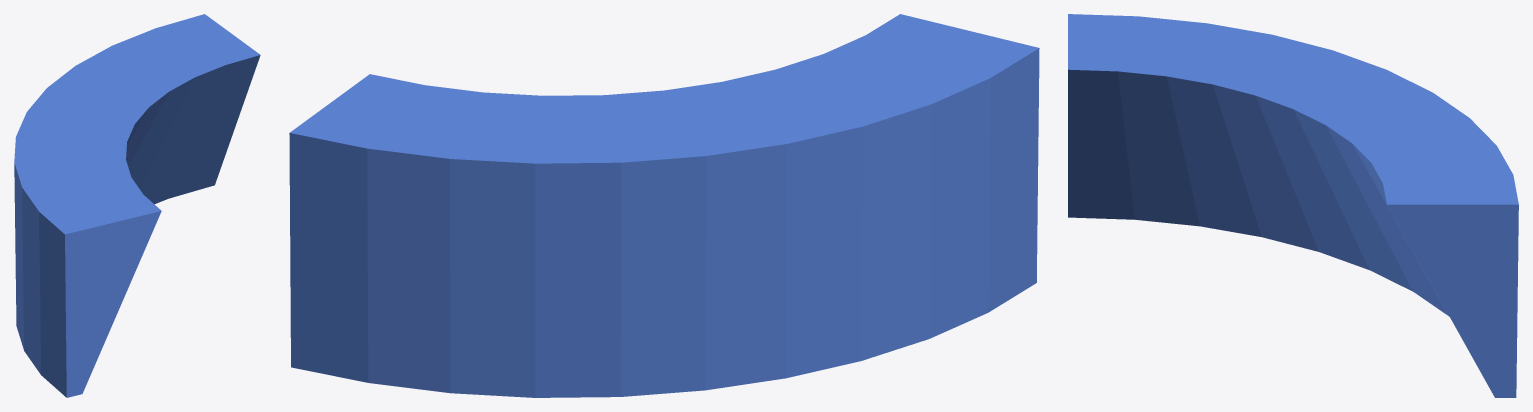
Rendered from TopPadded_Incline_Curve_Round_Inner_Collision.fbx.
3 renders of one model, left to right at view 1: azimuth 30°, elevation 25°; view 2: azimuth 150°, elevation 25°; view 3: azimuth 270°, elevation 25°, orthographic. The views are drawn at different scales.
Parts seen in each view (by area): view 1: TopPadded_Incline_Curve_Round_Inner_Collision; view 2: TopPadded_Incline_Curve_Round_Inner_Collision; view 3: TopPadded_Incline_Curve_Round_Inner_Collision.
Boxes of the visible parts, x1,y1,x2,y2 form: TopPadded_Incline_Curve_Round_Inner_Collision: (14, 14, 260, 397); TopPadded_Incline_Curve_Round_Inner_Collision: (289, 14, 1039, 397); TopPadded_Incline_Curve_Round_Inner_Collision: (1068, 14, 1518, 397).
Bounding box in the file's own units: 422 × 200 × 422.
